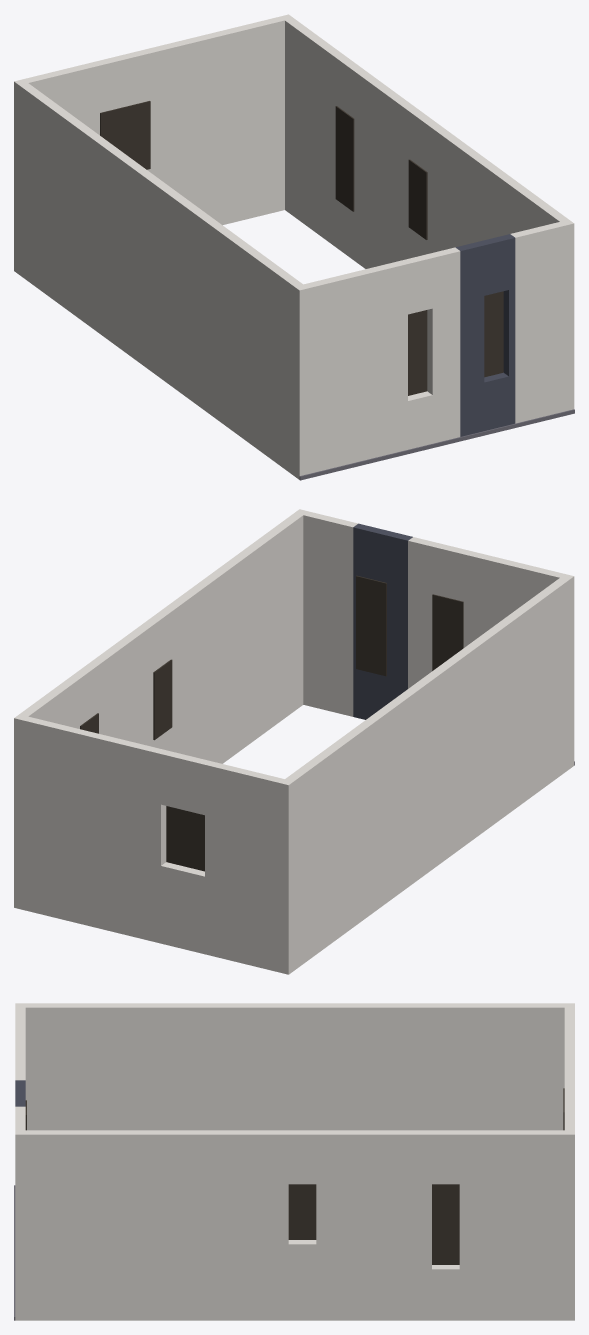
Rendered from SM_Floor_NarrowUpperScatterLowEndR_White_455_Back_01.gltf.
3 renders of one model, top to bottom at view 1: azimuth 30°, elevation 25°; view 2: azimuth 150°, elevation 25°; view 3: azimuth 270°, elevation 25°, orthographic. The views are drawn at different scales.
Visible parts, largest first — view 1: SM_Floor_NarrowUpperScatterLowEndR_White_455_Back_01; view 2: SM_Floor_NarrowUpperScatterLowEndR_White_455_Back_01; view 3: SM_Floor_NarrowUpperScatterLowEndR_White_455_Back_01.
Part boxes in pixels (bbox=[...]): SM_Floor_NarrowUpperScatterLowEndR_White_455_Back_01: bbox=[14, 14, 574, 480]; SM_Floor_NarrowUpperScatterLowEndR_White_455_Back_01: bbox=[14, 509, 574, 974]; SM_Floor_NarrowUpperScatterLowEndR_White_455_Back_01: bbox=[14, 1003, 574, 1320].
Bounding box in the file's own units: 4.55 × 3 × 8.21.
Materials: 1 (1 with a texture image).
